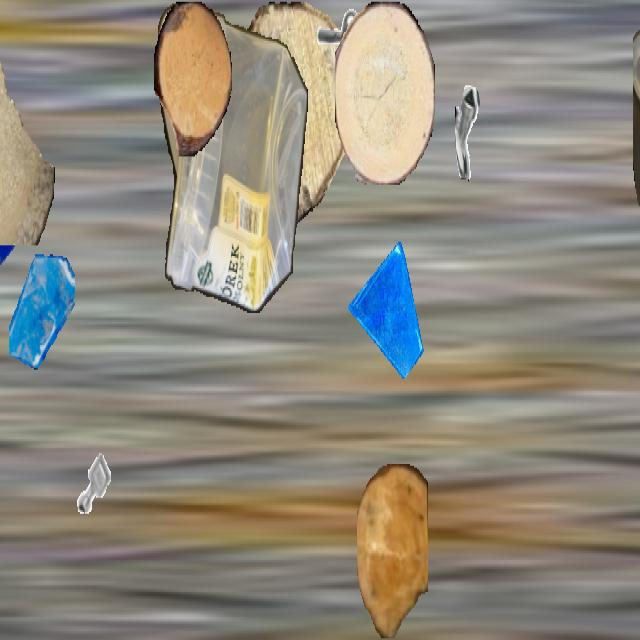glass: (348, 242, 424, 377), (9, 252, 75, 370), (0, 138, 30, 284)
metal: (302, 2, 364, 112), (455, 82, 511, 181), (69, 439, 119, 528)
plastic: (158, 2, 308, 311), (633, 2, 640, 300)
wood: (212, 2, 352, 226), (335, 2, 435, 183), (0, 14, 54, 246), (357, 464, 427, 638), (154, 1, 232, 154)
